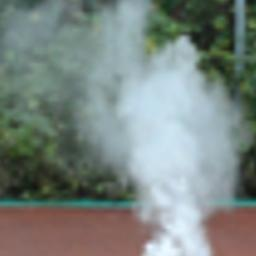smoke: (0, 0, 247, 255)
